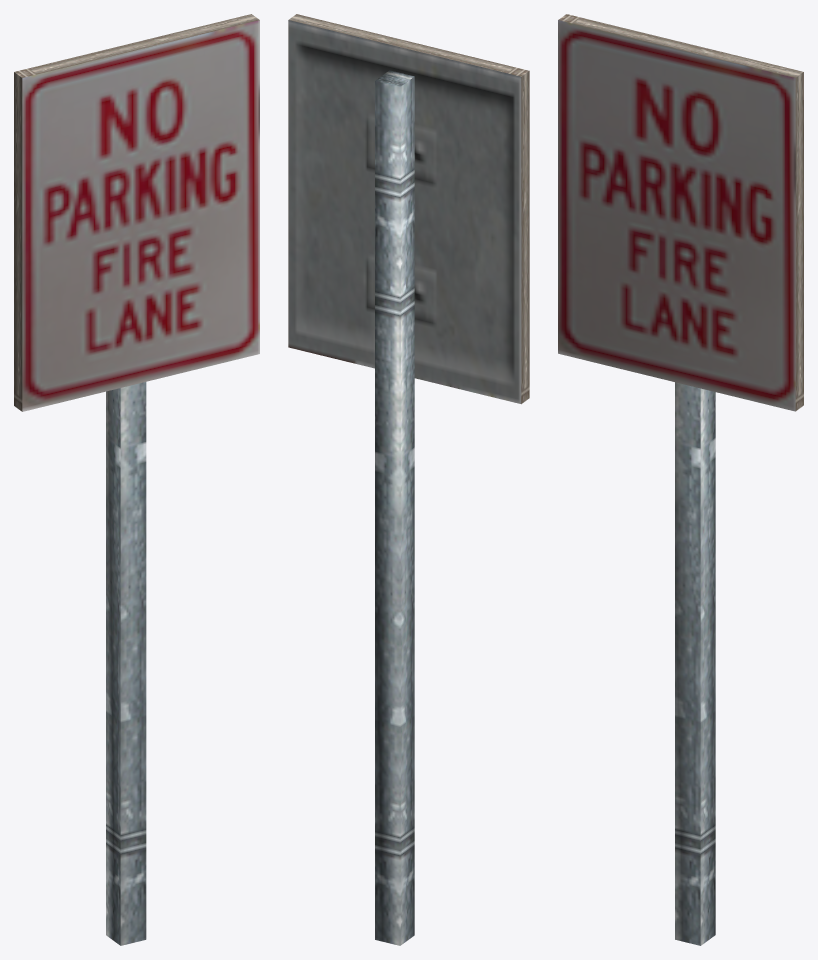
File: Model_StreetSign_10.fbx
The picture shows the model from 3 angles, left to right: view 1: azimuth 30°, elevation 25°; view 2: azimuth 150°, elevation 25°; view 3: azimuth 330°, elevation 25°; orthographic projection.
Visible parts, largest first — view 1: StreetSign_10; view 2: StreetSign_10; view 3: StreetSign_10.
Part boxes in pixels (x1,y1,x2,y2): StreetSign_10: [14, 14, 259, 945]; StreetSign_10: [288, 14, 529, 945]; StreetSign_10: [558, 14, 803, 945].
Bounding box in the file's own units: 59.59 × 216 × 10.5.
